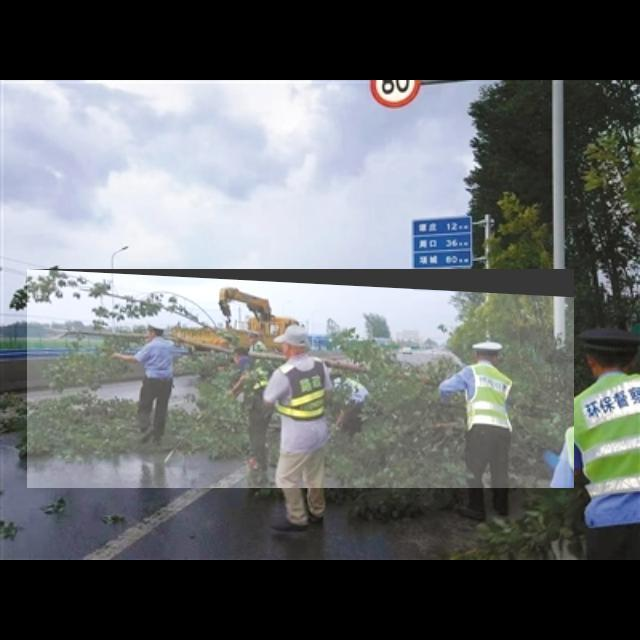fallen_tree: (27, 269, 575, 489)
